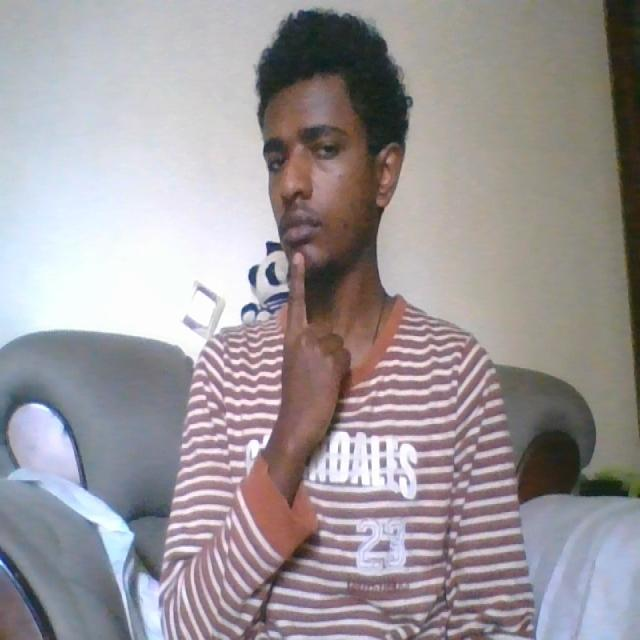lomi: (276, 228, 351, 450)
